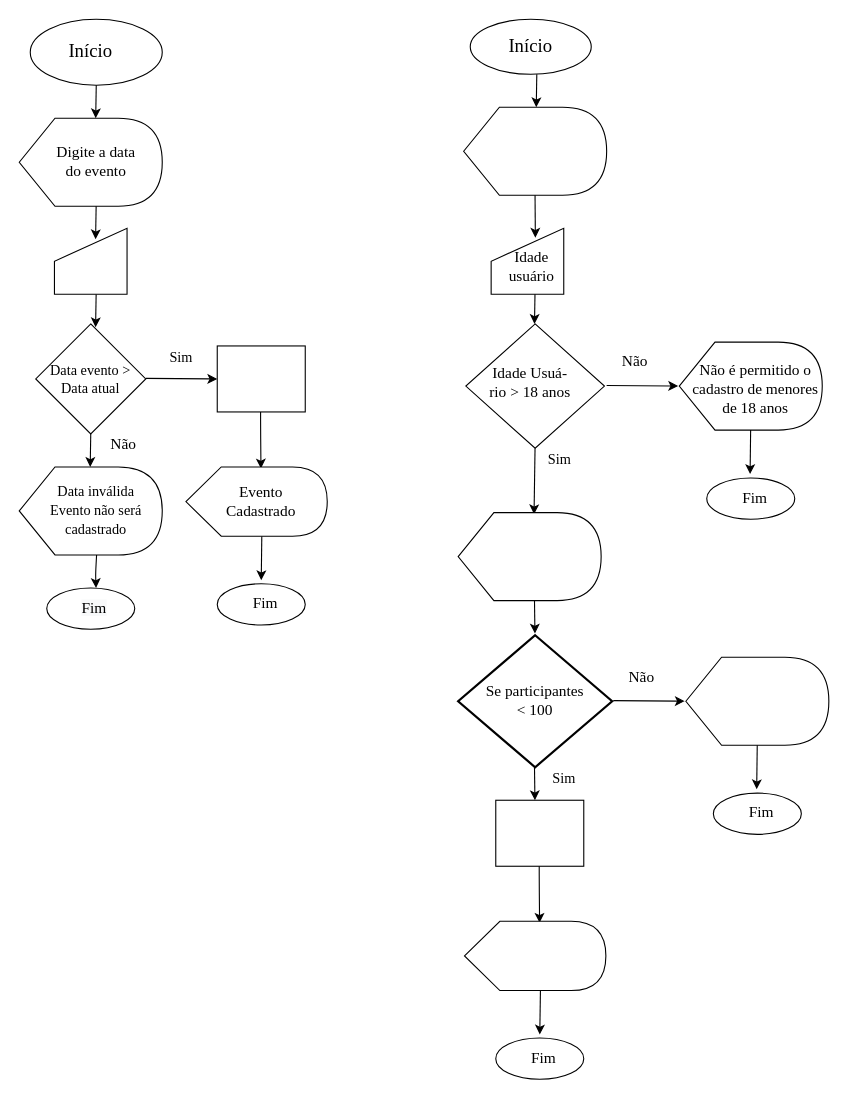
This 848x1099 diagram has some shape labels left out. Each missing label, with the centre of its shape:
Cadastro do Evento: (x=260, y=378)
Cadastro participante: (x=539, y=832)
Data Evento: (x=90, y=260)
Digite sua idade.: (x=535, y=150)
Limite de participantes atingido, cadastro não realizado: (x=757, y=700)
Listar participantes do evento: (x=529, y=556)
Participante Cadastrado: (x=534, y=955)
